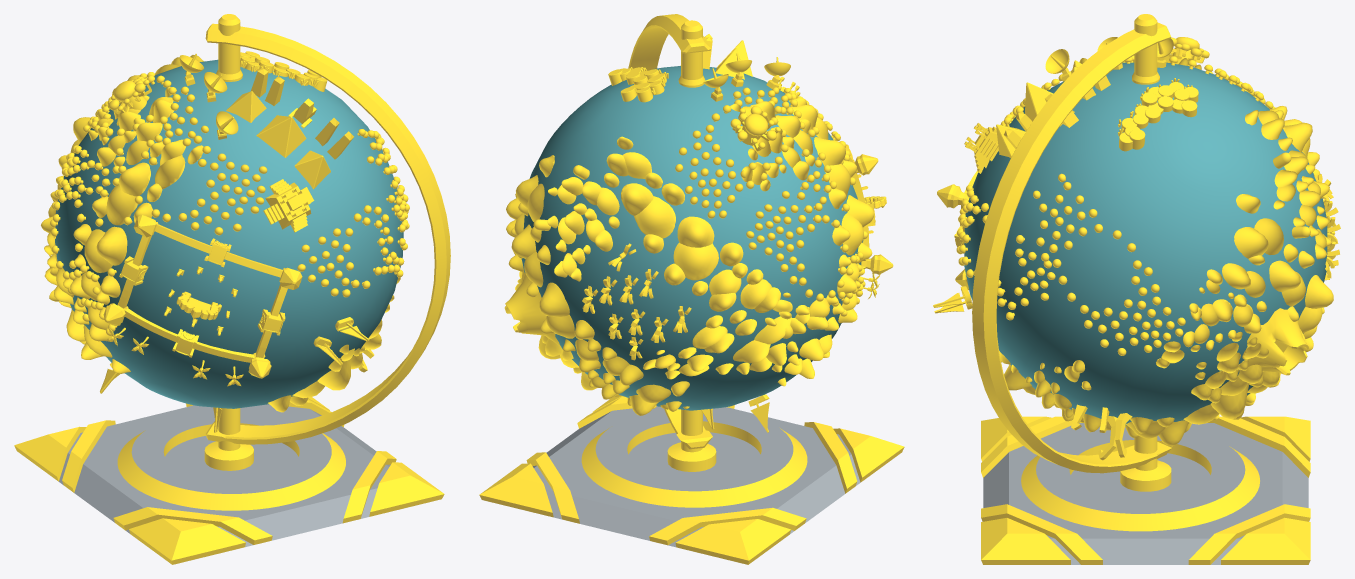
File: Globe2.fbx
The picture shows the model from 3 angles, left to right: view 1: azimuth 30°, elevation 25°; view 2: azimuth 150°, elevation 25°; view 3: azimuth 270°, elevation 25°; orthographic projection. The views are drawn at different scales.
Parts seen in each view (by area): view 1: globe_2, deets, Globe2, arc_arm, stand, spinning_shaft; view 2: deets, globe_2, Globe2, stand, spinning_shaft, arc_arm; view 3: globe_2, deets, Globe2, arc_arm, stand, spinning_shaft.
Part boxes in pixels (x1=…): globe_2: x1=55, y1=59, x2=403, y2=408; deets: x1=41, y1=51, x2=409, y2=432; Globe2: x1=14, y1=397, x2=444, y2=564; arc_arm: x1=205, y1=23, x2=450, y2=444; stand: x1=117, y1=409, x2=345, y2=510; spinning_shaft: x1=204, y1=14, x2=253, y2=470; deets: x1=504, y1=34, x2=893, y2=432; globe_2: x1=521, y1=66, x2=863, y2=410; Globe2: x1=479, y1=395, x2=904, y2=564; stand: x1=581, y1=408, x2=807, y2=507; spinning_shaft: x1=667, y1=20, x2=716, y2=471; arc_arm: x1=628, y1=14, x2=712, y2=449; globe_2: x1=964, y1=62, x2=1327, y2=425; deets: x1=933, y1=37, x2=1340, y2=460; Globe2: x1=981, y1=416, x2=1310, y2=564; arc_arm: x1=972, y1=22, x2=1171, y2=473; stand: x1=1021, y1=427, x2=1259, y2=531; spinning_shaft: x1=1120, y1=14, x2=1171, y2=491.
Size of the model in its own units: 0.8892 by 1.21 by 0.9367.
